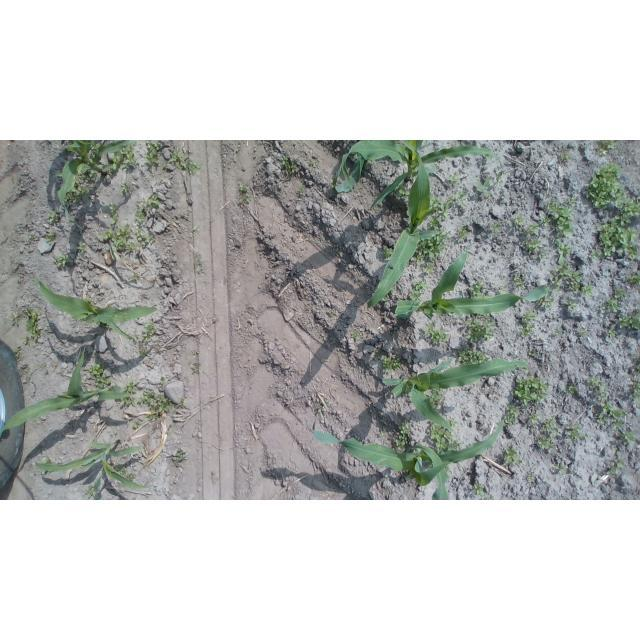Maize: (311, 418, 506, 500), (0, 345, 142, 437), (392, 244, 552, 320), (331, 141, 506, 210), (379, 354, 530, 432), (367, 153, 442, 305), (36, 272, 159, 340), (33, 439, 153, 500), (56, 142, 136, 211)
Weeds: (587, 379, 628, 429), (596, 221, 640, 264), (584, 163, 623, 210), (407, 233, 449, 272), (100, 225, 156, 252), (59, 172, 95, 208), (552, 268, 596, 297), (428, 194, 467, 225), (539, 201, 575, 231), (512, 379, 549, 406), (142, 392, 176, 421), (109, 141, 138, 172), (167, 150, 201, 175), (616, 194, 639, 226), (422, 320, 451, 345), (552, 233, 574, 265), (607, 315, 640, 336), (429, 426, 456, 451), (21, 310, 42, 338), (87, 365, 112, 388), (107, 463, 136, 482), (520, 229, 541, 255), (462, 325, 492, 343), (457, 349, 490, 365), (393, 424, 415, 448), (528, 415, 555, 434), (473, 179, 495, 202), (607, 290, 626, 314), (619, 272, 640, 292), (377, 355, 399, 374), (281, 157, 299, 179), (122, 382, 138, 405), (427, 386, 445, 406), (407, 280, 425, 300), (138, 324, 156, 344), (236, 182, 250, 207), (145, 143, 159, 168), (616, 433, 639, 448), (631, 364, 639, 405), (519, 312, 535, 332), (504, 449, 521, 466), (170, 449, 186, 465), (536, 435, 552, 451), (505, 407, 520, 423), (601, 141, 618, 155), (488, 220, 502, 235), (443, 176, 459, 189), (134, 208, 147, 224), (563, 429, 581, 440), (472, 483, 486, 497), (468, 285, 482, 299), (608, 462, 624, 474), (84, 486, 97, 500), (455, 229, 468, 243), (349, 330, 360, 346), (54, 255, 67, 268), (554, 465, 570, 475), (392, 188, 408, 198), (75, 242, 87, 255), (109, 208, 120, 222), (513, 218, 527, 229), (149, 195, 162, 206), (567, 386, 578, 397), (46, 210, 55, 223), (512, 274, 525, 283), (567, 304, 578, 313), (528, 474, 539, 483), (122, 185, 131, 196), (578, 329, 587, 336)
